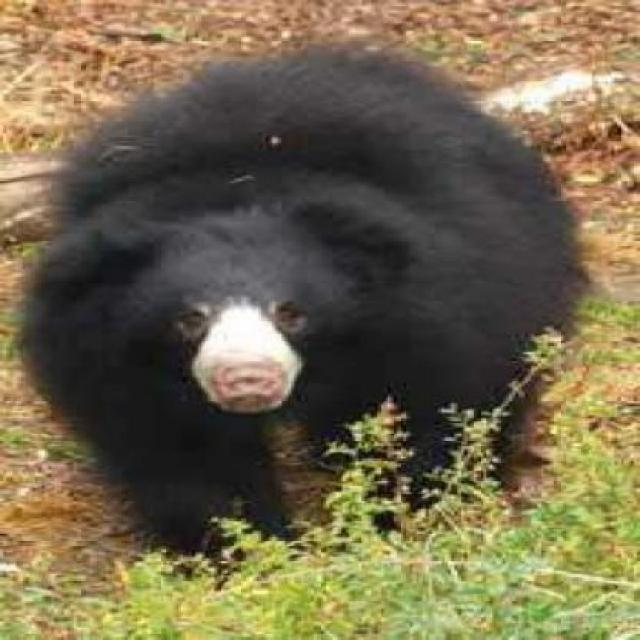Bear: (50, 28, 599, 612)
